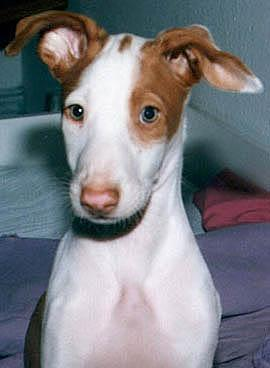Ibizan_hound: (3, 10, 264, 367)
